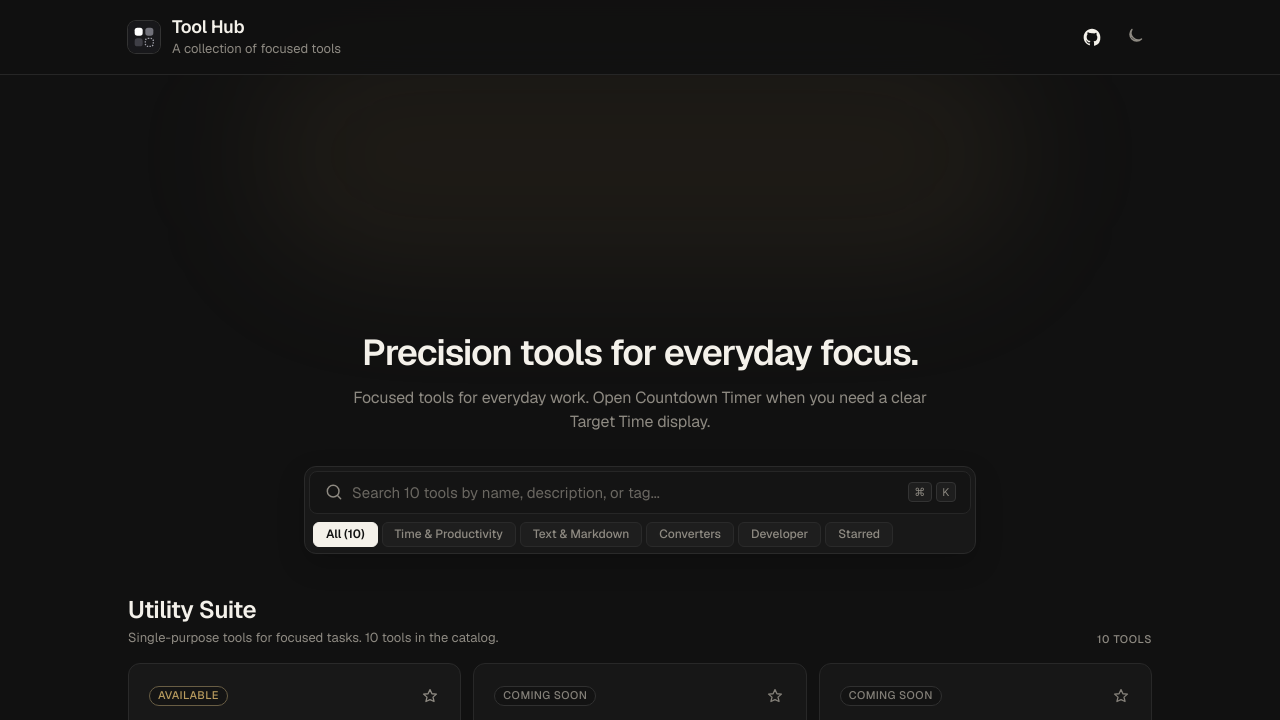
Test: Tool Hub homepage › shows no-results feedback and clears only the query while keeping the category
Click the button "Developer" at point(780, 534), box [738,522,821,547]
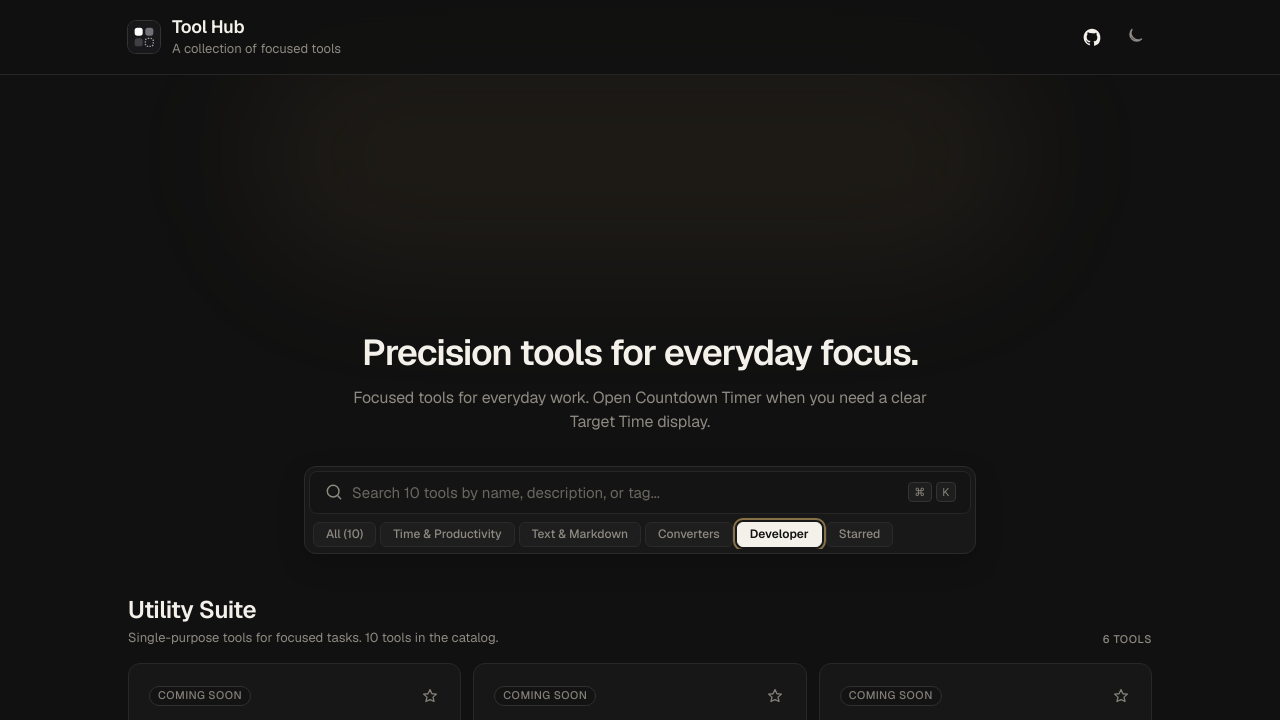
Type "zzzz-no-match" into the search field named "search tools" at point(623, 492), box [352,482,894,503]
(page scrolled)
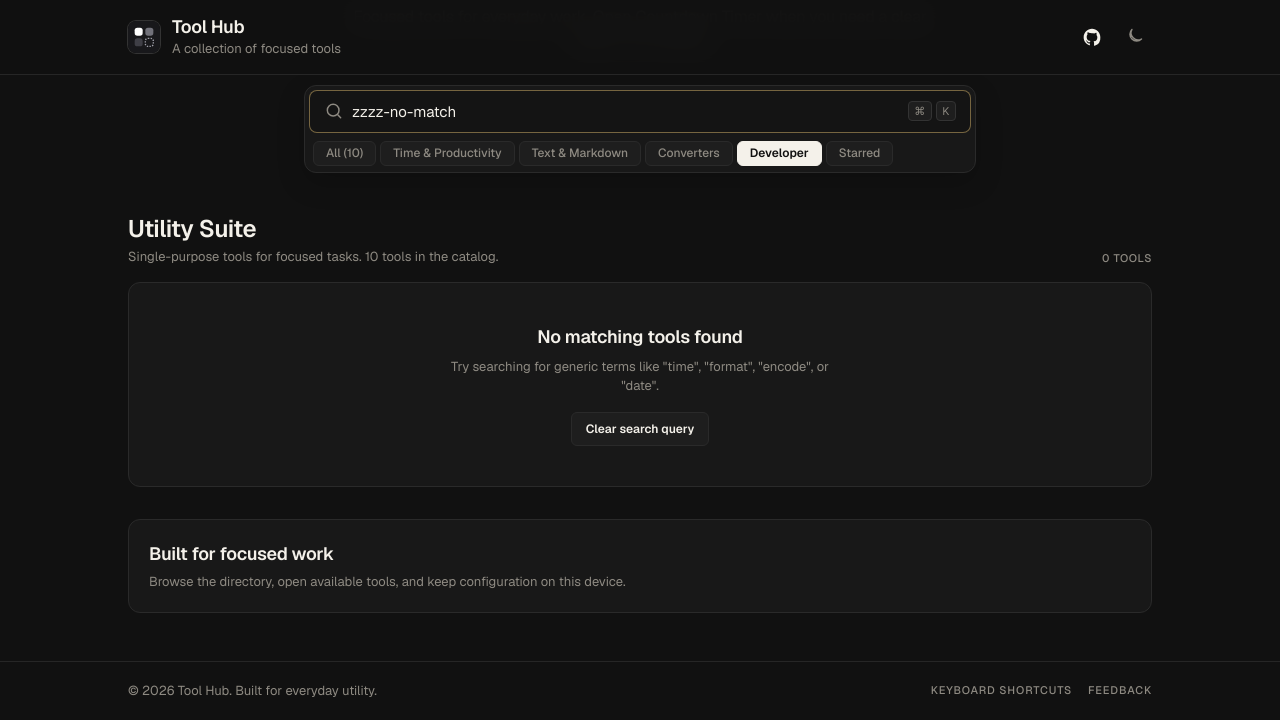
Expected: the heading "No matching tools found" is shown, [537,323,743,350]
Expected: the text "0 tools" is shown, [1102,250,1152,266]
Click the button "Clear search query" at point(640, 429), box [571,412,709,446]
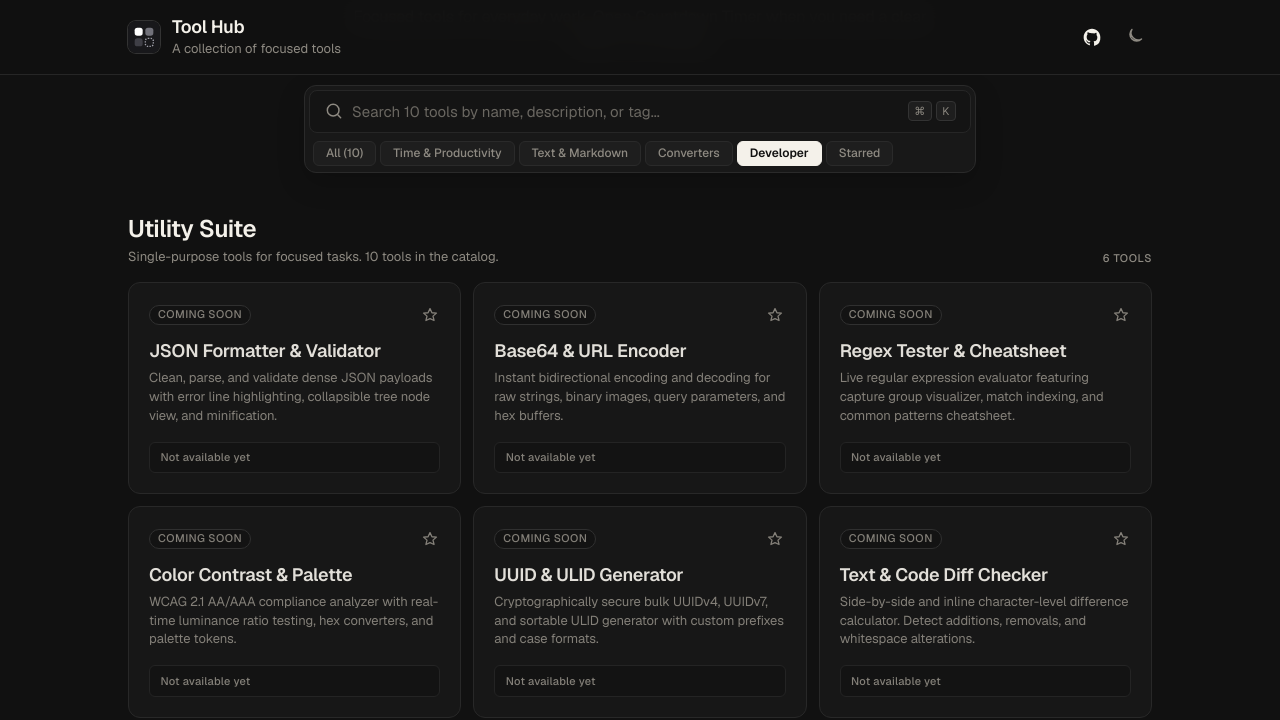
Expected: the search field named "search tools" is empty, [352,101,894,122]
Expected: the 1st list item is shown, [128,282,461,494]
Expected: the heading "JSON Formatter & Validator" is shown, [149,339,381,362]
